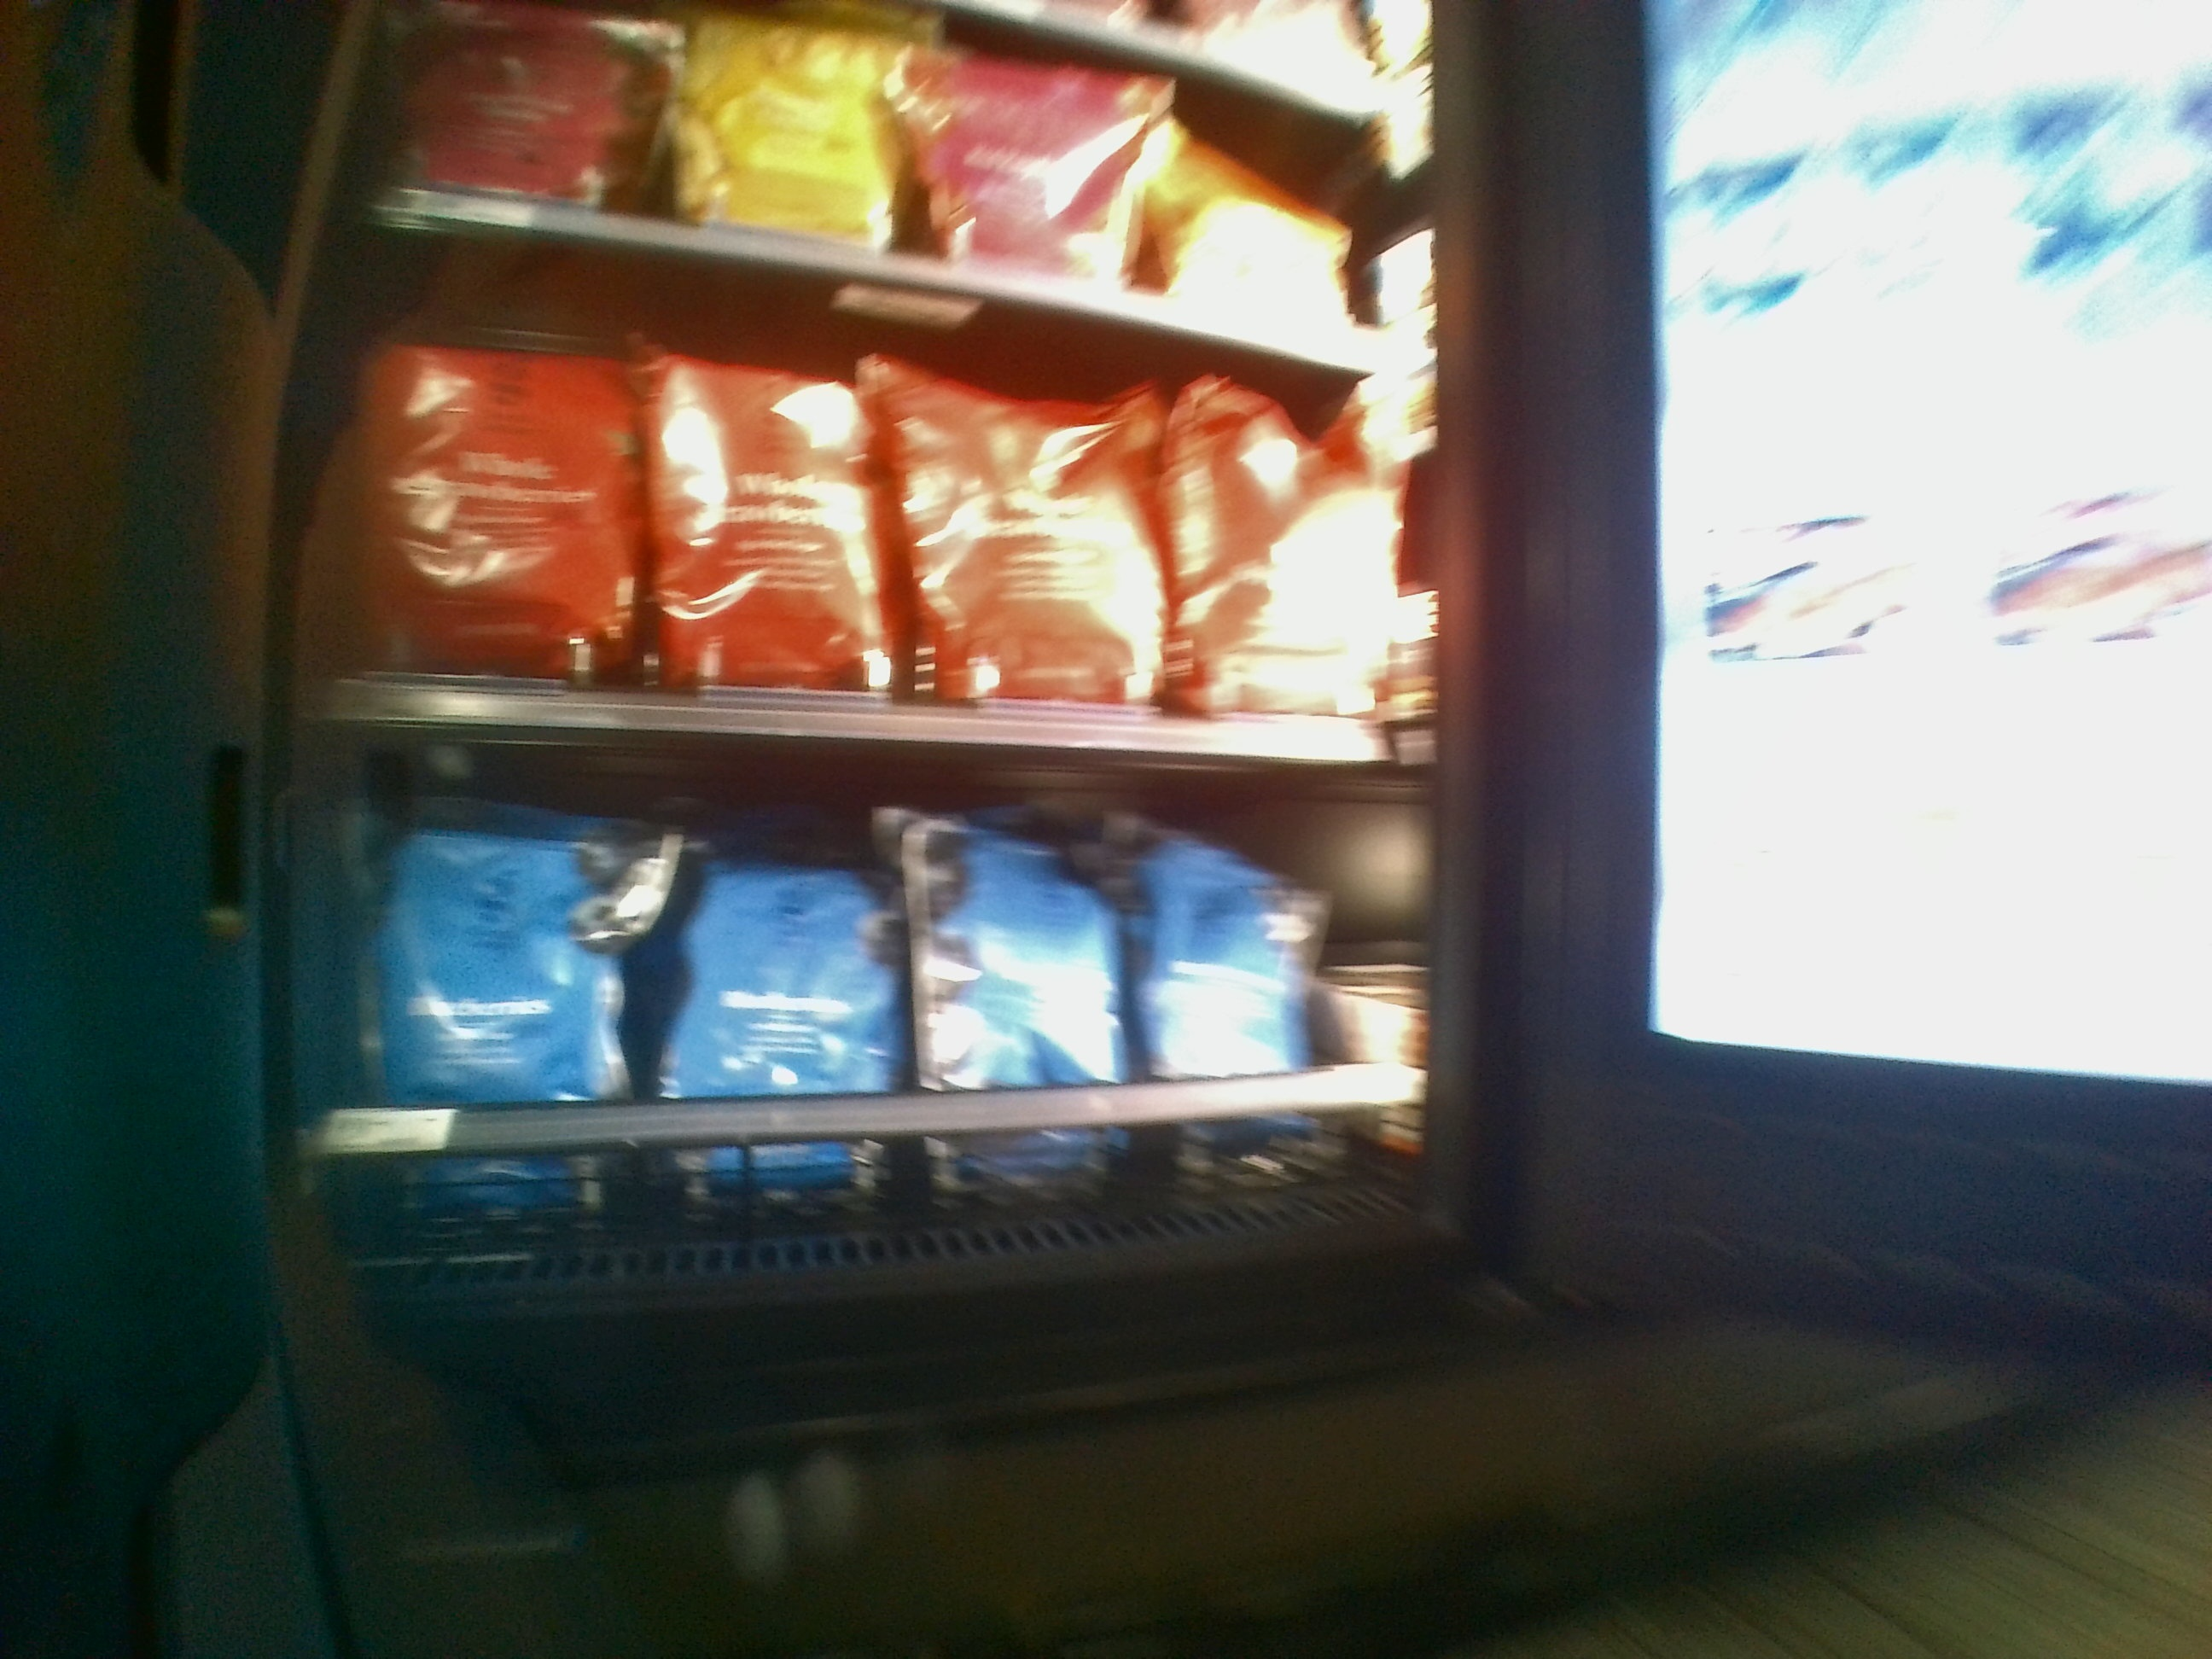shelf: (333, 770, 1426, 1232), (329, 303, 1435, 756)
